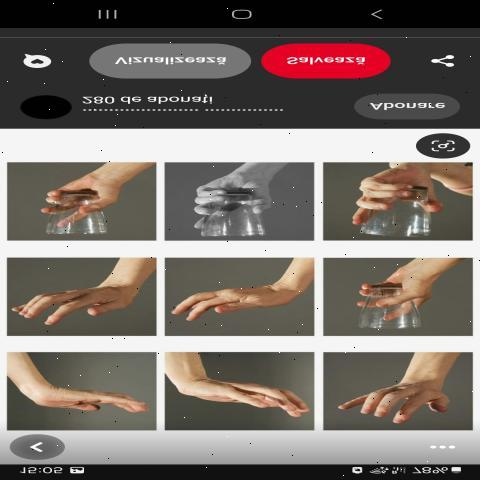Hands: (331, 353, 463, 436), (170, 266, 317, 333), (11, 268, 154, 332), (165, 368, 315, 428), (18, 360, 158, 423)
